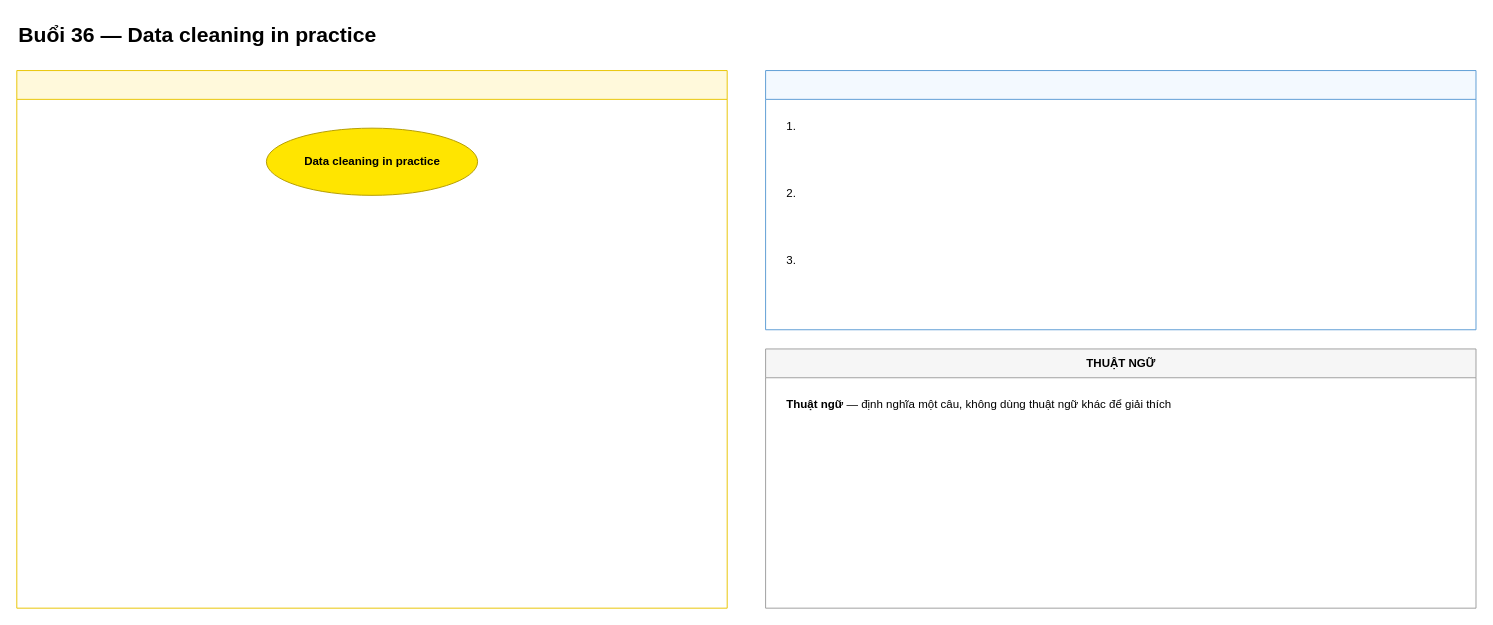
This 1493x625 diagram has some shape labels left out. Each missing label, with the box of its shape:
KEY TAKEAWAY — ba điều phải nhớ: (765, 70, 1476, 330)
MINDMAP: (16, 70, 727, 608)
